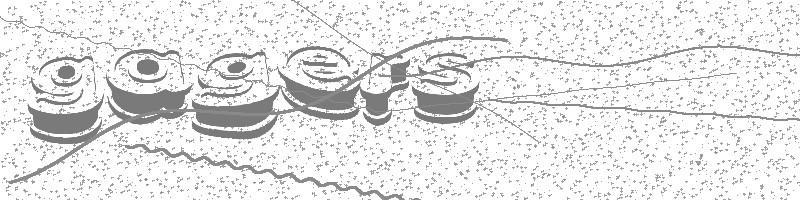a: (107, 49, 191, 124)
e: (279, 47, 361, 120)
g: (191, 52, 279, 139), (28, 56, 104, 144)
r: (360, 54, 409, 125)
s: (413, 53, 478, 124)
